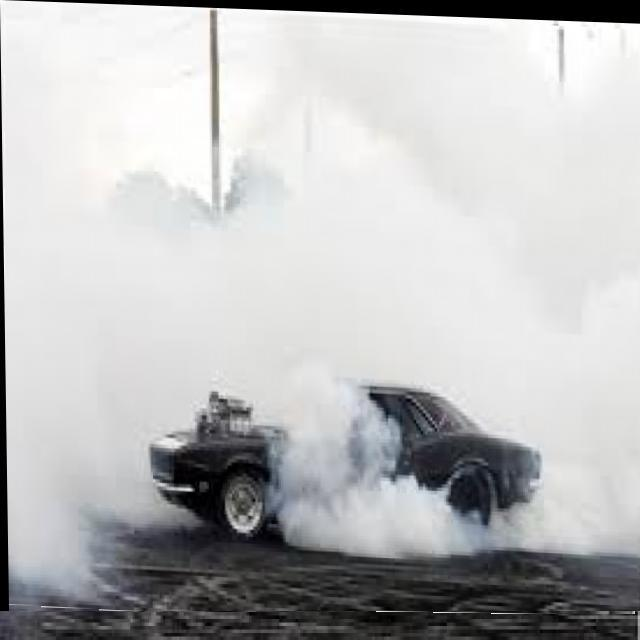smoke: (278, 375, 602, 560)
